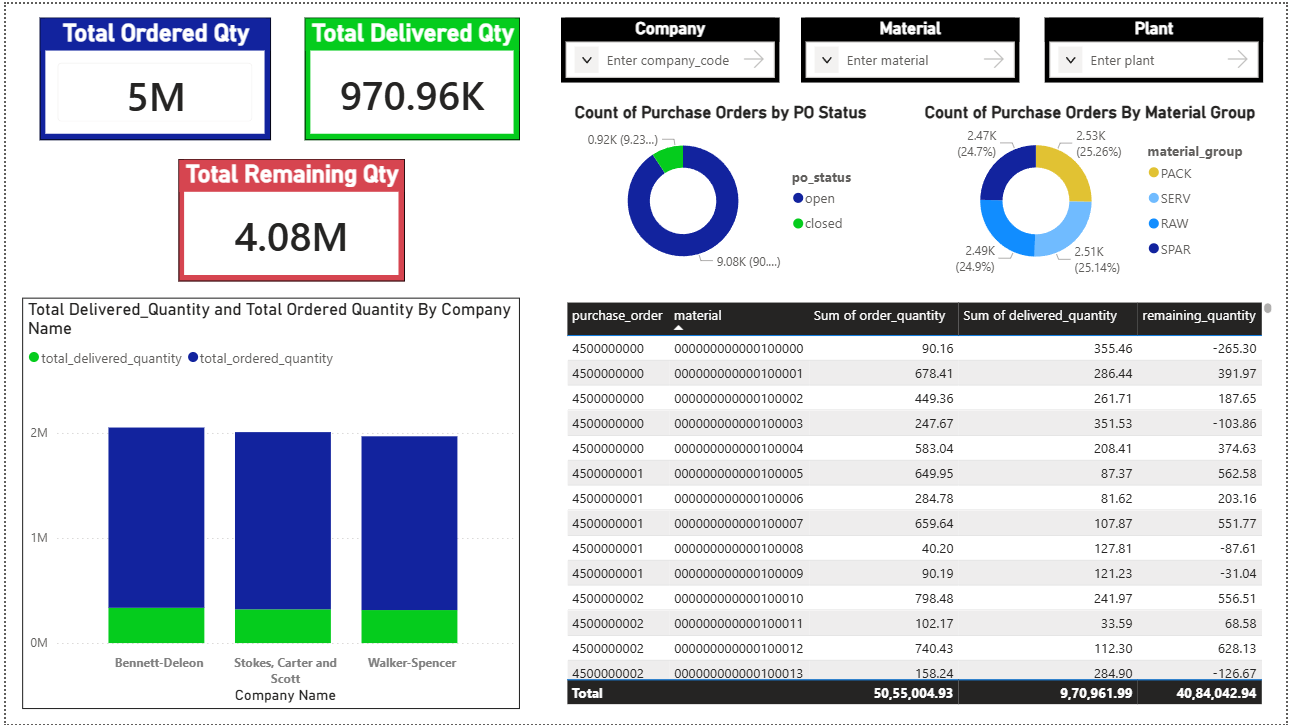

This screenshot's page, from the dashboard's own definition file:
{"tool":"powerbi","page":{"name":"Purchase Orders","canvas":[1280,720],"ordinal":0},"visuals":[{"type":"cardVisual","title":"Total Ordered Qty","fields":{"Data":["fact_purchase_order.total_ordered_quantity"]},"box":[33.8,13.8,231.2,122.5],"z":0},{"type":"cardVisual","title":"Total Delivered Qty","fields":{"Data":["fact_purchase_order.total_delivered_quantity"]},"box":[298.8,13.8,215,122.5],"z":1000},{"type":"columnChart","title":"Total Delivered_Quantity and Total Ordered Quantity By Company Name","fields":{"Category":["fact_purchase_order.company_name"],"Y":["fact_purchase_order.total_delivered_quantity","fact_purchase_order.total_ordered_quantity"]},"box":[16.2,293.8,497.5,411.2],"z":2000},{"type":"cardVisual","title":"Total Remaining Qty","fields":{"Data":["fact_purchase_order.remaining_quantity"]},"box":[172.5,155,226.2,122.5],"z":3000},{"type":"tableEx","fields":{"Values":["fact_purchase_order.purchase_order","fact_purchase_order.material","Sum(fact_purchase_order.order_quantity)","Sum(fact_purchase_order.delivered_quantity)","fact_purchase_order.remaining_quantity"]},"box":[555,293.8,716.2,411.2],"z":4000},{"type":"textSlicer","title":"Material","fields":{"Values":["fact_purchase_order.material"]},"box":[795,13.8,218.8,65],"z":5000},{"type":"textSlicer","title":"Plant","fields":{"Values":["fact_purchase_order.plant"]},"box":[1038.8,13.8,218.8,65],"z":6000},{"type":"donutChart","title":"Count of Purchase Orders by PO Status","fields":{"Category":["fact_purchase_order.po_status"],"Y":["CountNonNull(fact_purchase_order.purchase_order)"]},"box":[563.8,97.5,305,180],"z":7000},{"type":"donutChart","title":"Count of Purchase Orders By Material Group","fields":{"Category":["fact_purchase_order.material_group"],"Y":["CountNonNull(fact_purchase_order.purchase_order)"]},"box":[913.8,97.5,343.8,180],"z":8000},{"type":"textSlicer","title":"Company","fields":{"Values":["fact_purchase_order.company_code"]},"box":[555,13.8,218.8,65],"z":9000}]}

Visuals, with their boxes in screenshot pixels (x1, y1, x2, y2), scaled from the page's 1280x720 canvas onto the 1293x727 screenshot:
"Total Ordered Qty" cardVisual: x1=34 y1=14 x2=268 y2=138
"Total Delivered Qty" cardVisual: x1=302 y1=14 x2=519 y2=138
"Total Delivered_Quantity and Total Ordered Quantity By Company Name" columnChart: x1=16 y1=297 x2=519 y2=712
"Total Remaining Qty" cardVisual: x1=174 y1=157 x2=403 y2=280
tableEx - fact_purchase_order.purchase_order x fact_purchase_order.material: x1=561 y1=297 x2=1284 y2=712
"Material" textSlicer: x1=803 y1=14 x2=1024 y2=80
"Plant" textSlicer: x1=1049 y1=14 x2=1270 y2=80
"Count of Purchase Orders by PO Status" donutChart: x1=570 y1=98 x2=878 y2=280
"Count of Purchase Orders By Material Group" donutChart: x1=923 y1=98 x2=1270 y2=280
"Company" textSlicer: x1=561 y1=14 x2=782 y2=80
